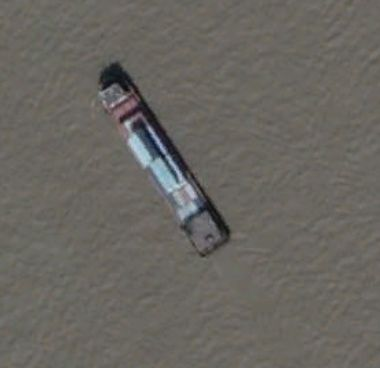boat: (96, 64, 232, 260)
